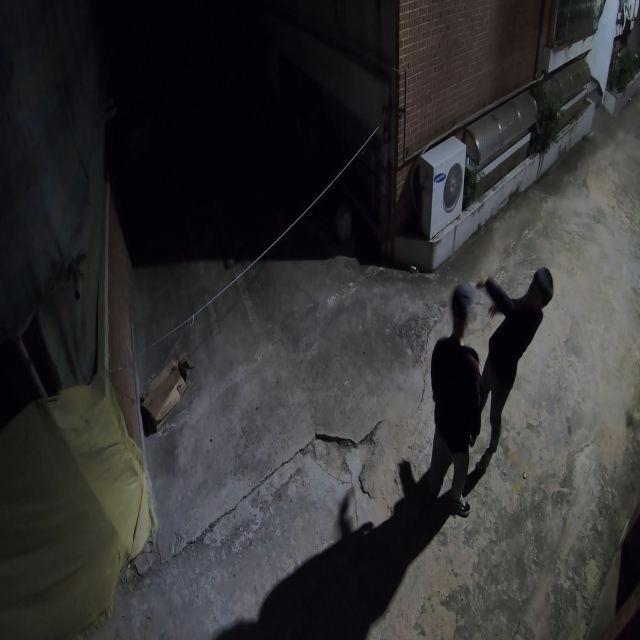fight: (423, 264, 554, 520)
